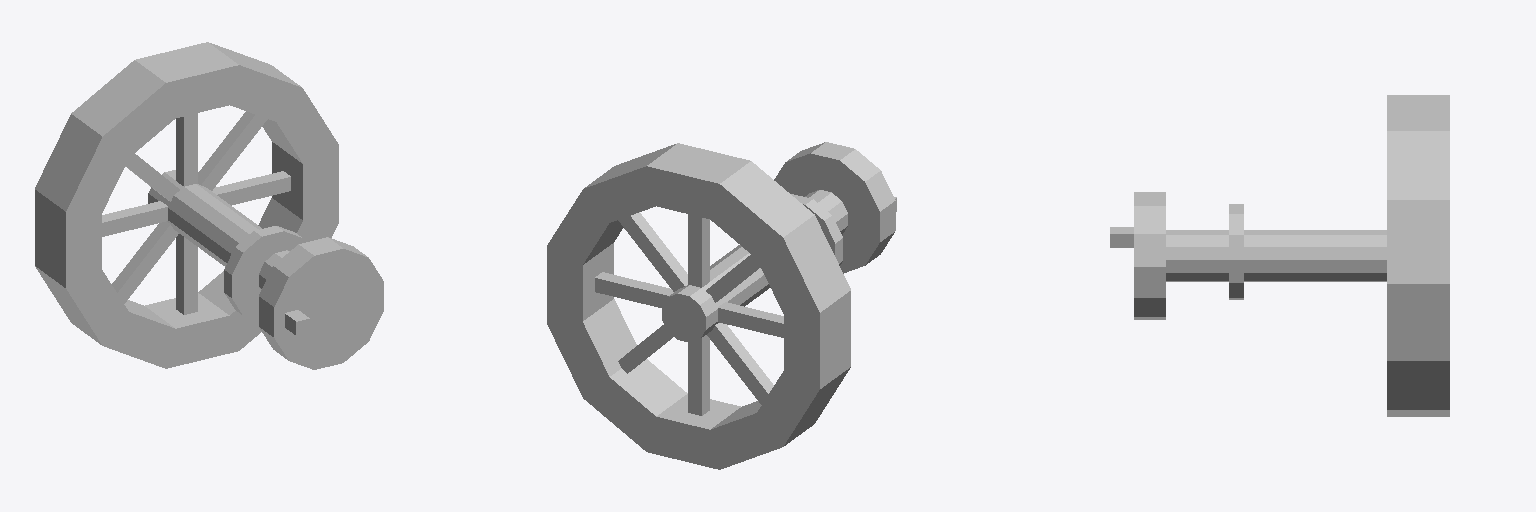
The model's file is steam_engine_flywheele_mirrored.obj.
3 renders of one model, left to right at view 1: azimuth 30°, elevation 25°; view 2: azimuth 150°, elevation 25°; view 3: azimuth 270°, elevation 25°, orthographic.
Parts seen in each view (by area): view 1: tube, cylinder, cube; view 2: tube, cylinder, cube; view 3: tube, cylinder.
Part boxes in pixels (x1,y1,x2,y2): tube: (35,42,338,368); cylinder: (148,170,383,369); cube: (102,111,309,335); tube: (547,143,850,469); cylinder: (662,142,895,342); cube: (595,197,896,415); tube: (1387,95,1449,416); cylinder: (1134,192,1386,319).
Size of the model in its own units: 2.5 by 2.5 by 2.69.